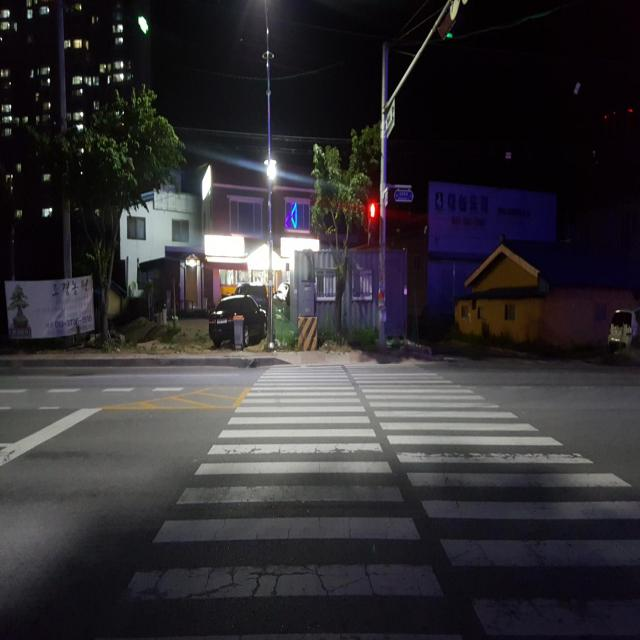빨간불: (367, 200, 380, 246)
횡단보도: (116, 362, 640, 640)
